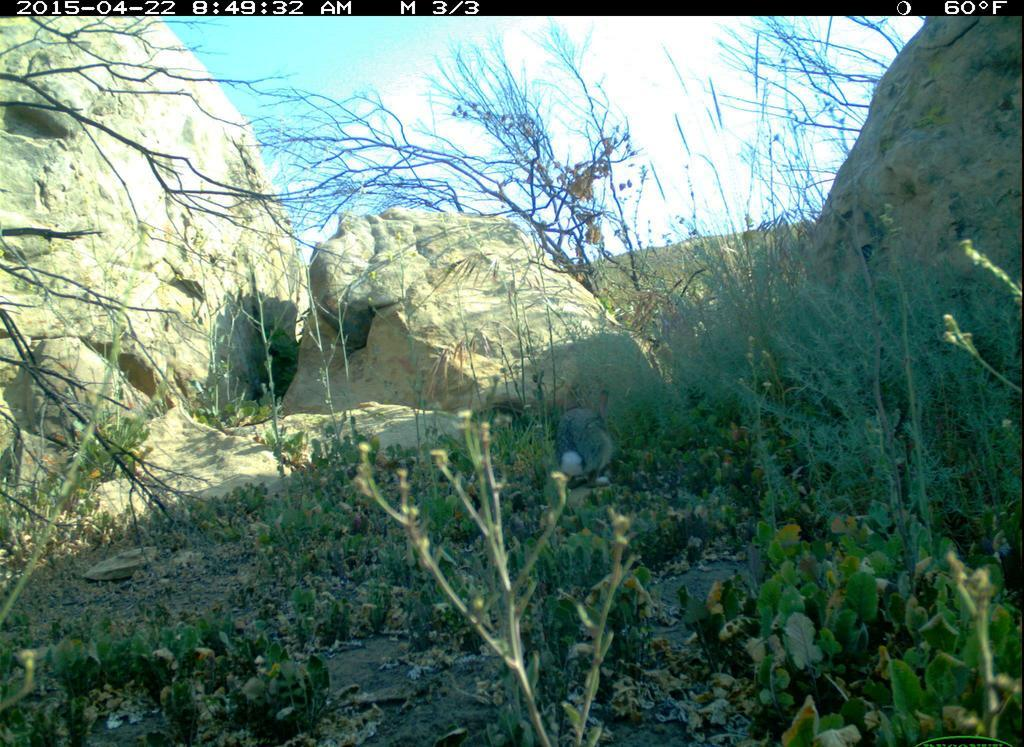rabbit: (550, 379, 625, 501)
